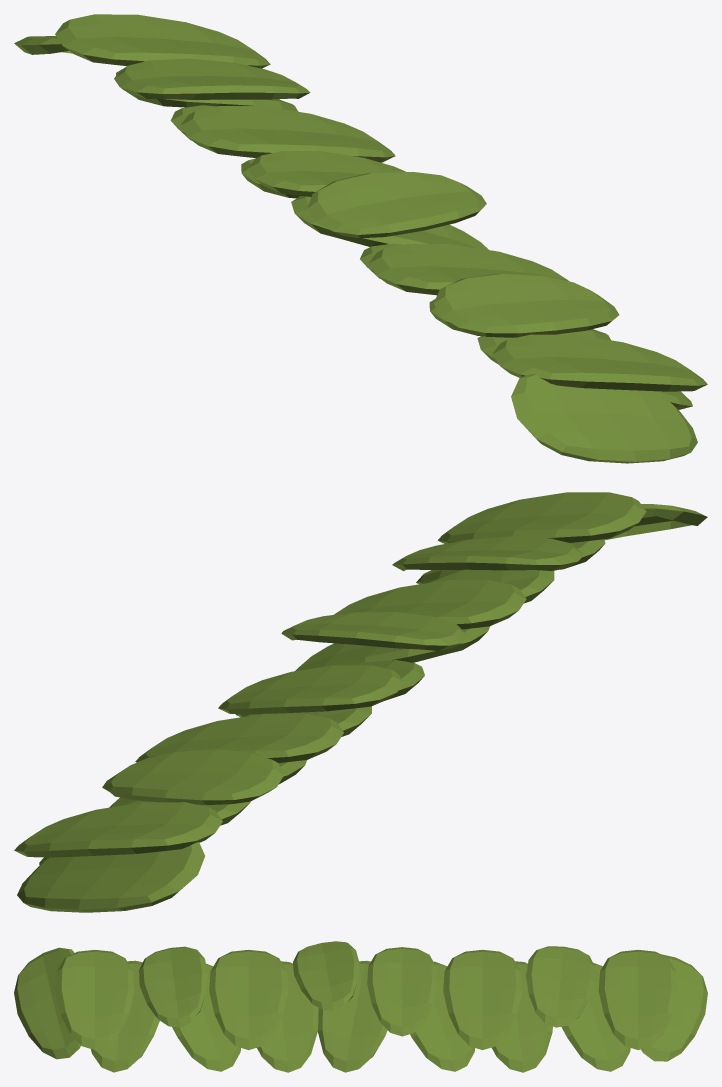
The model's file is grassside2.fbx.
The picture shows the model from 3 angles, top to bottom: view 1: azimuth 30°, elevation 25°; view 2: azimuth 150°, elevation 25°; view 3: azimuth 270°, elevation 25°; orthographic projection. The views are drawn at different scales.
Visible parts, largest first — view 1: sidegrass.001; view 2: sidegrass.001; view 3: sidegrass.001.
Boxes of the visible parts, x1,y1,x2,y2 form: sidegrass.001: (14, 14, 707, 463); sidegrass.001: (14, 492, 707, 912); sidegrass.001: (14, 941, 707, 1072).
Size of the model in its own units: 23.67 by 11.83 by 99.15.
